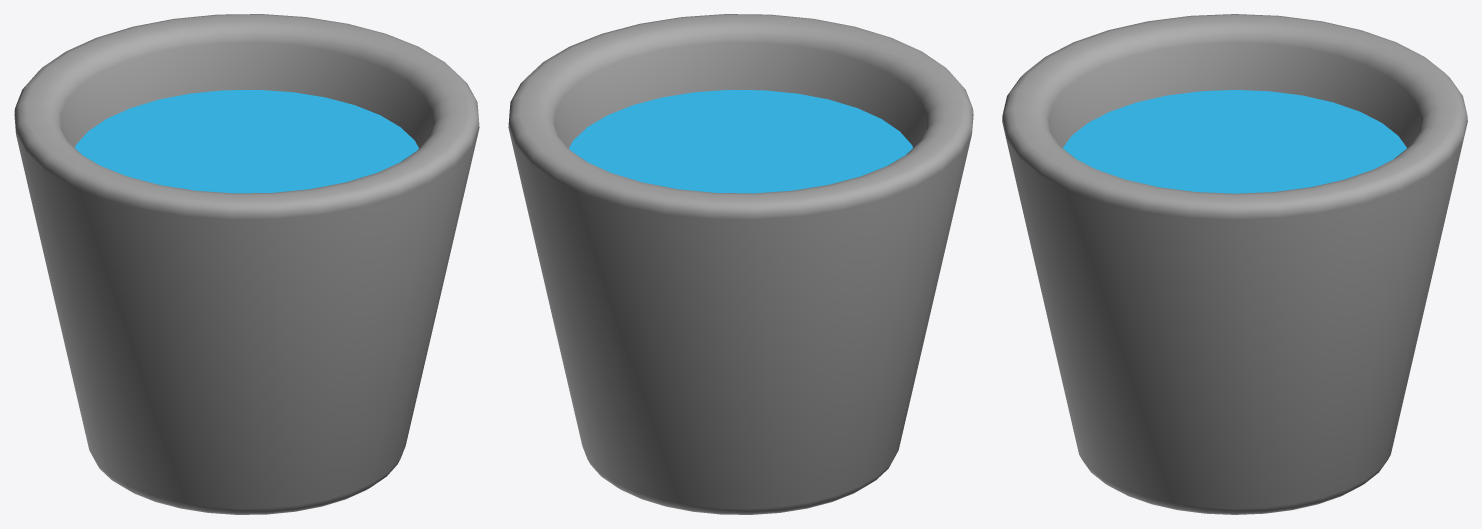
The model's file is WaterBucket.fbx.
3 renders of one model, left to right at view 1: azimuth 30°, elevation 25°; view 2: azimuth 150°, elevation 25°; view 3: azimuth 270°, elevation 25°, orthographic.
Parts seen in each view (by area): view 1: Cylinder; view 2: Cylinder; view 3: Cylinder.
Part boxes in pixels (x1,y1,x2,y2): Cylinder: [14, 14, 479, 514]; Cylinder: [508, 14, 973, 514]; Cylinder: [1002, 14, 1467, 514].
Bounding box in the file's own units: 61.28 × 50 × 61.28.
